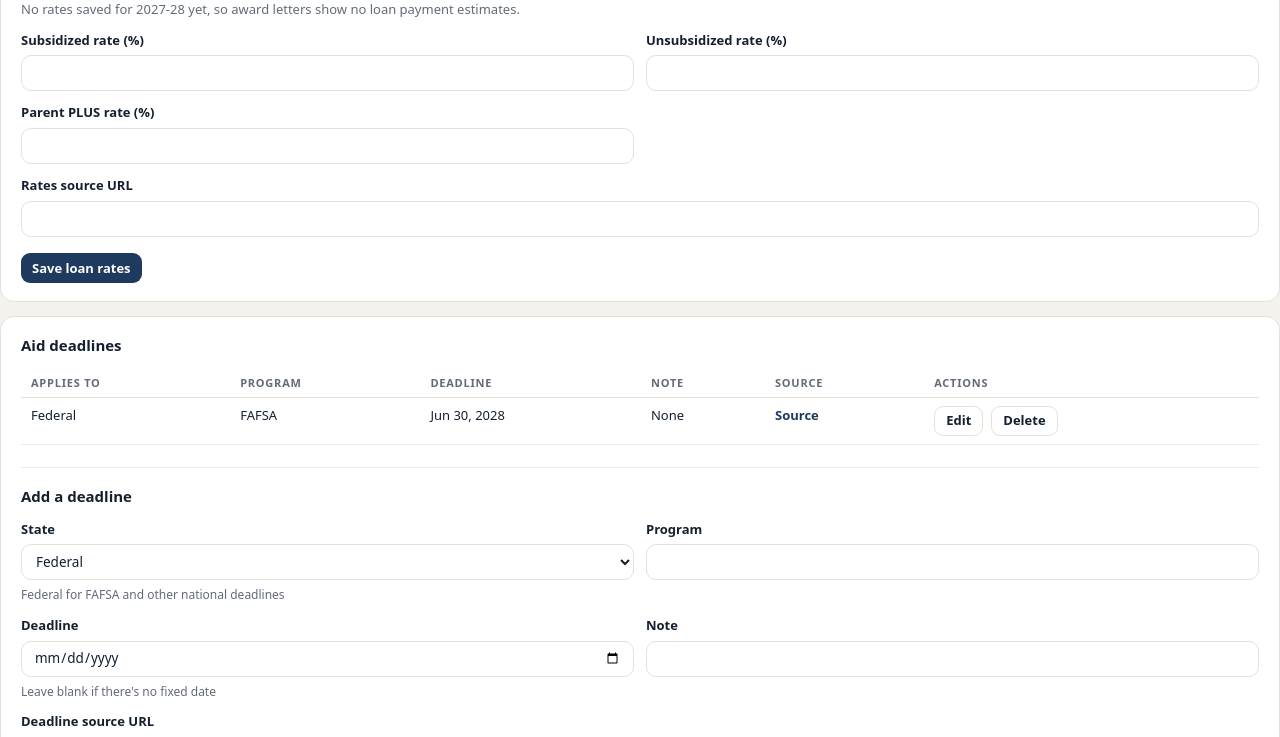
Test: AidRulesEditor (R2P-1) › edits a deadline in place, sending its id
Click the button with aria-label "Edit FAFSA (Federal)" at (959, 421), box [934, 406, 983, 436]
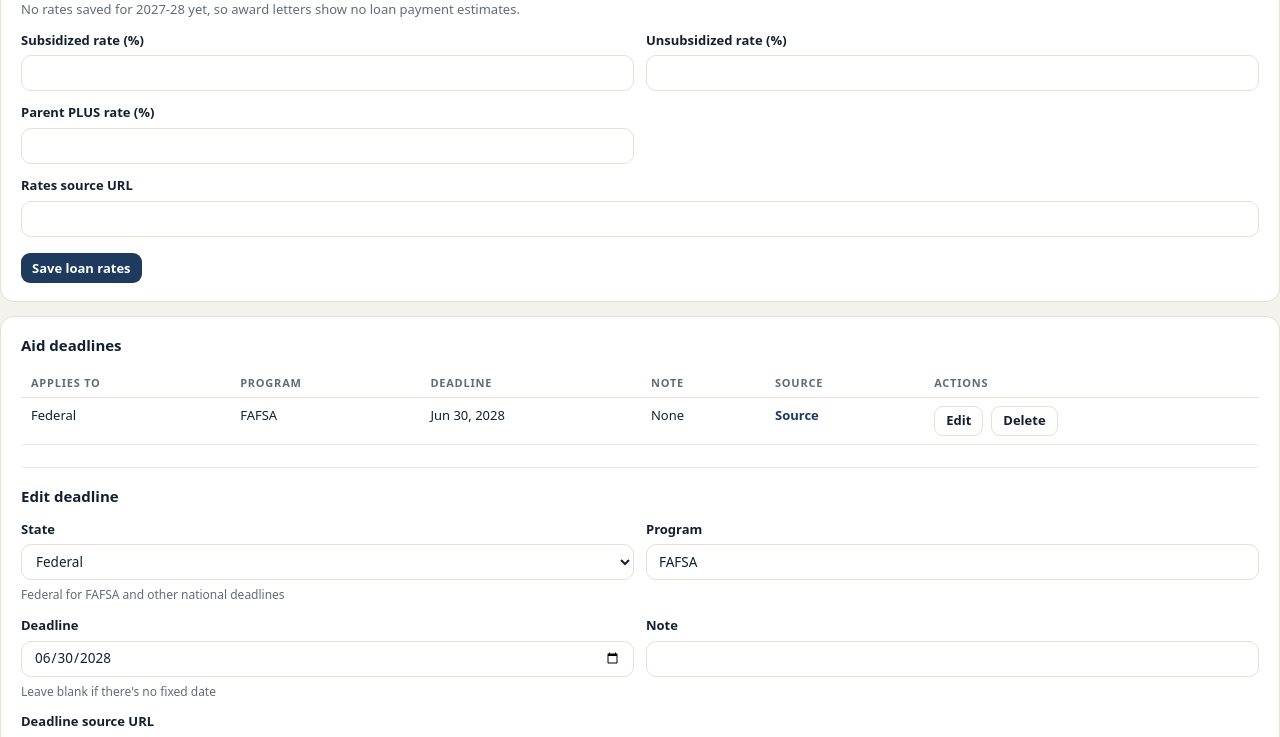
Check: the dropdown labelled "State" shows "Federal", box [21, 544, 634, 580]
Check: the field labelled "Program" holds "FAFSA", box [646, 544, 1259, 580]
Type "2028-06-29" into the date field labelled "Deadline" at (328, 659), box [21, 641, 634, 677]
(page scrolled)
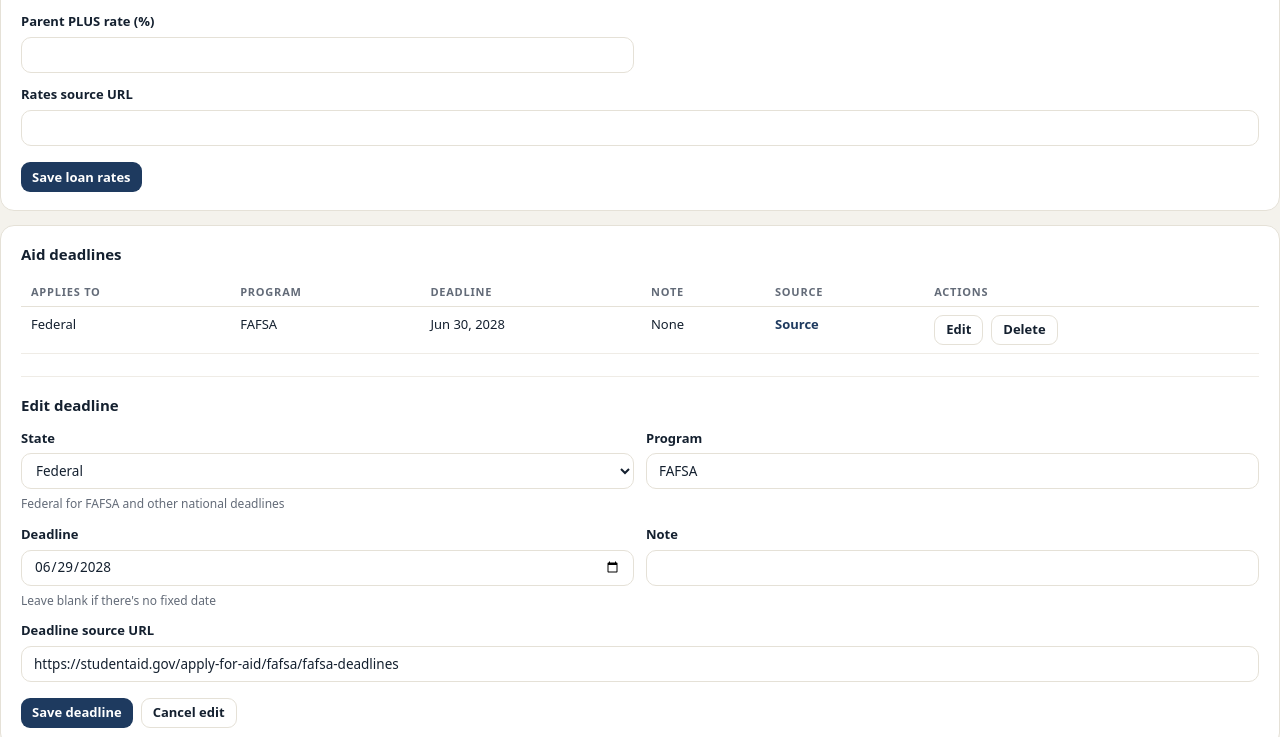
Click the button "Save deadline" at (77, 713), box [21, 698, 133, 728]
(page scrolled)
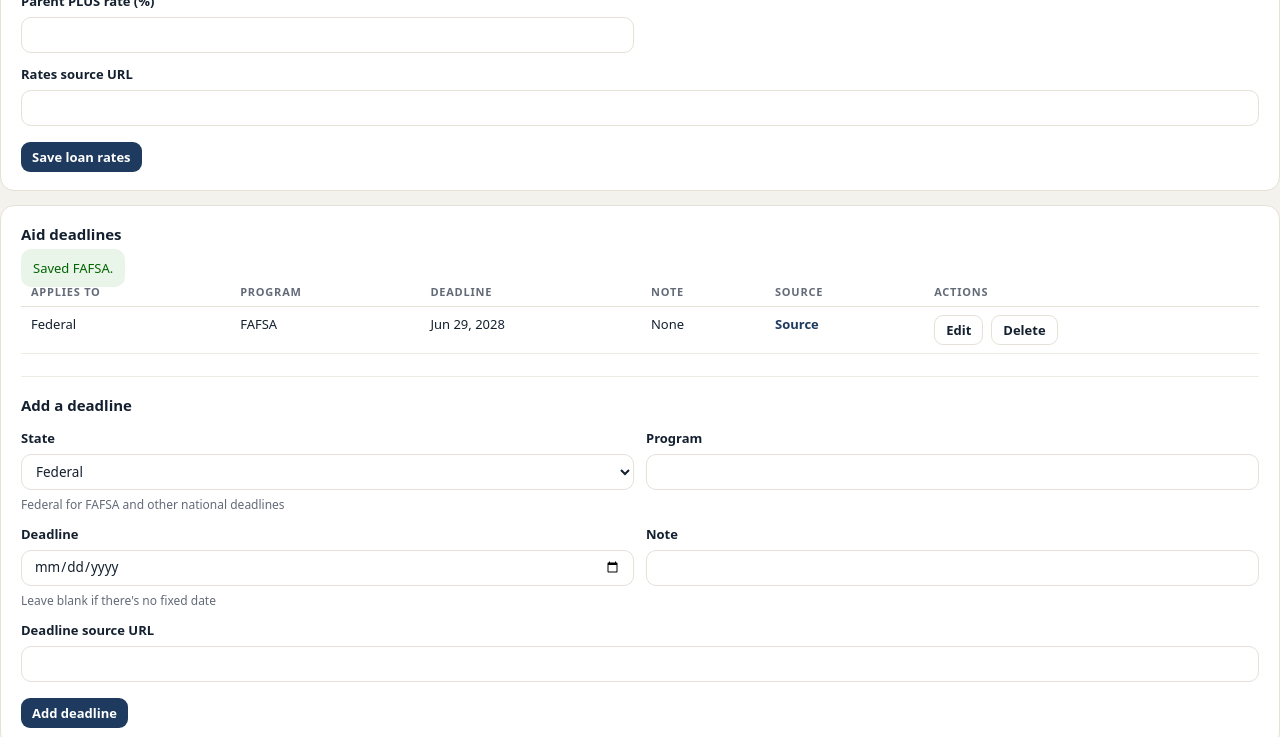
Check: the text "Saved FAFSA." is shown, box [21, 249, 125, 287]
Check: the text "Jun 29, 2028" is shown, box [420, 307, 641, 354]
Check: the button "Add deadline" is shown, box [21, 698, 128, 728]
